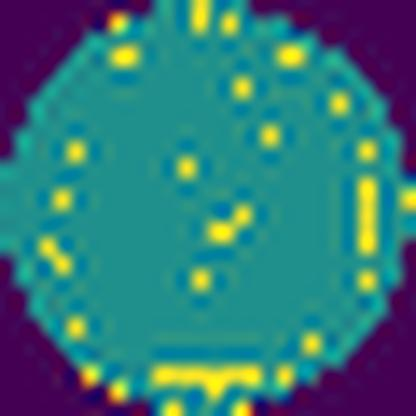Scratch: (146, 360, 267, 402), (349, 171, 387, 258)
